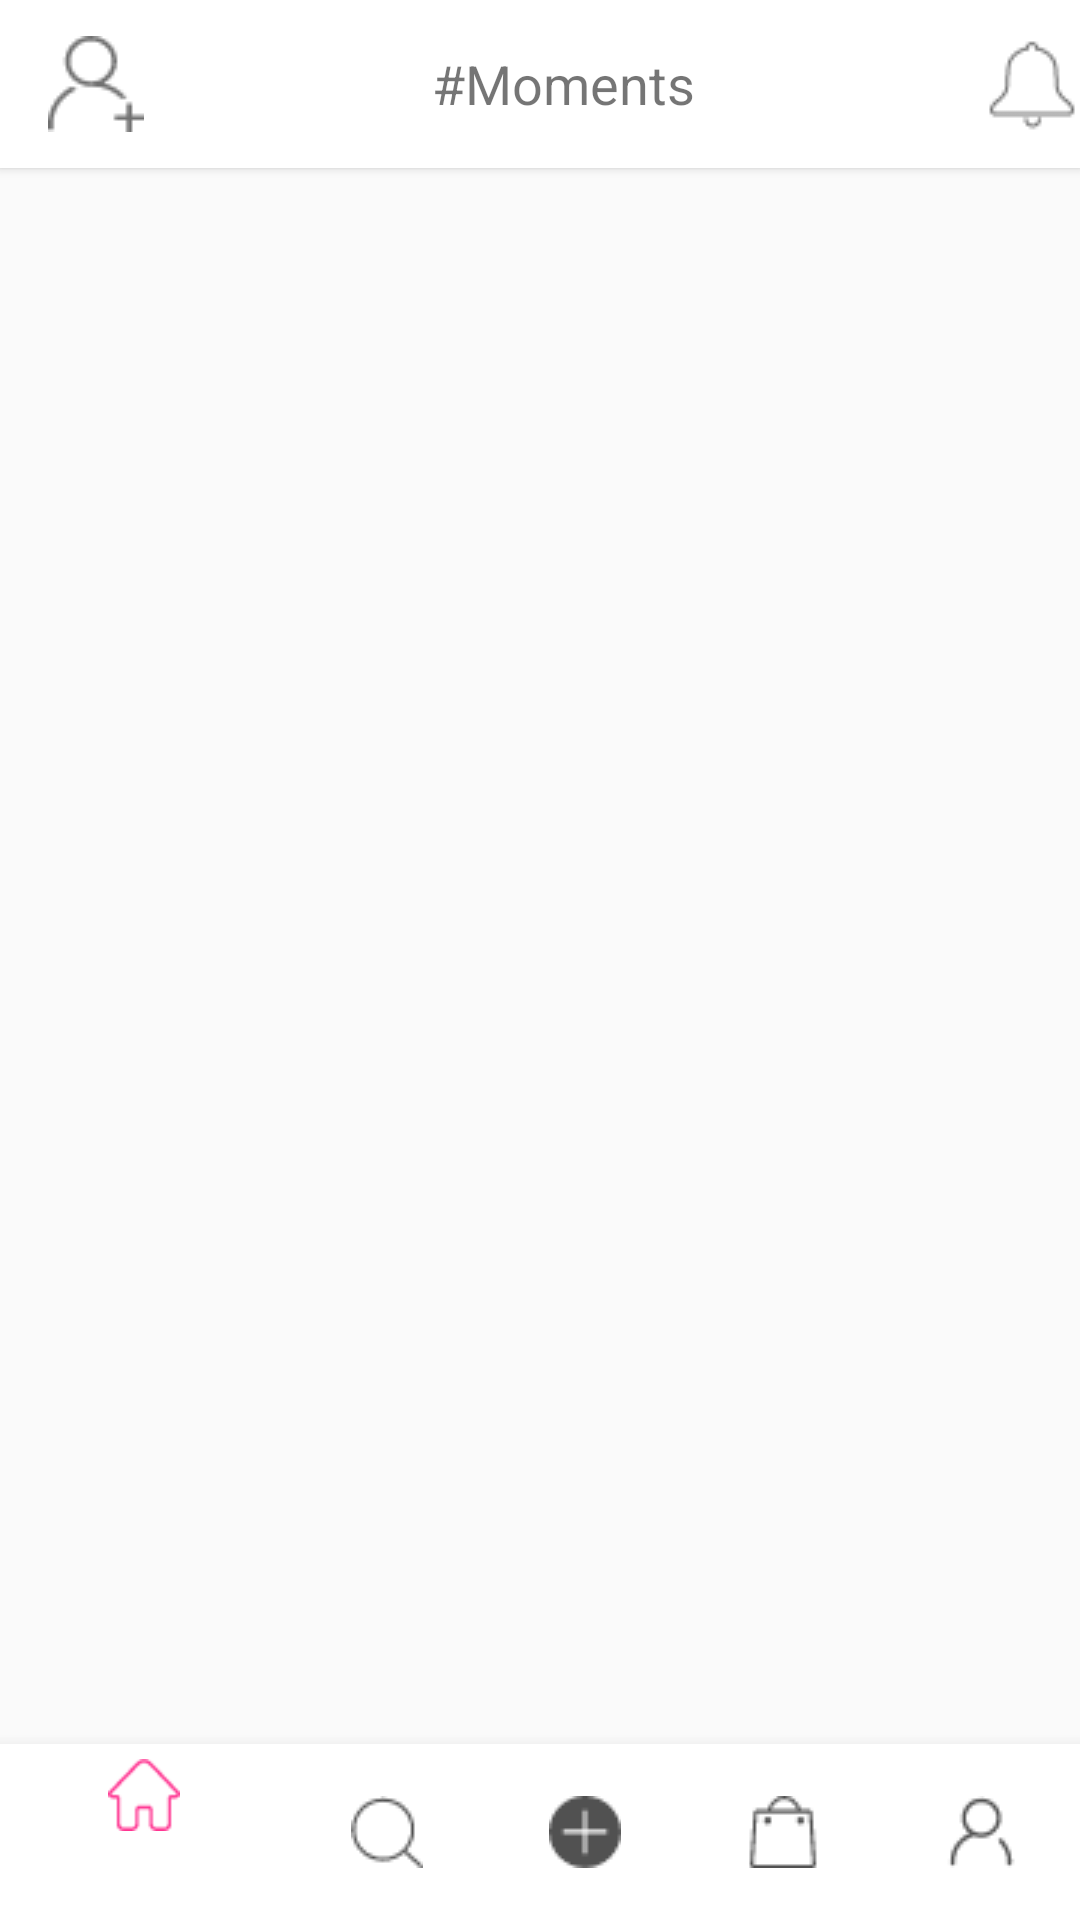

Named icons in this screenshot (1080px×1920px) and their bounding boxes, box(x1, y1, x2, y2):
add fri: box(48, 36, 144, 132)
reminder: box(989, 41, 1075, 129)
